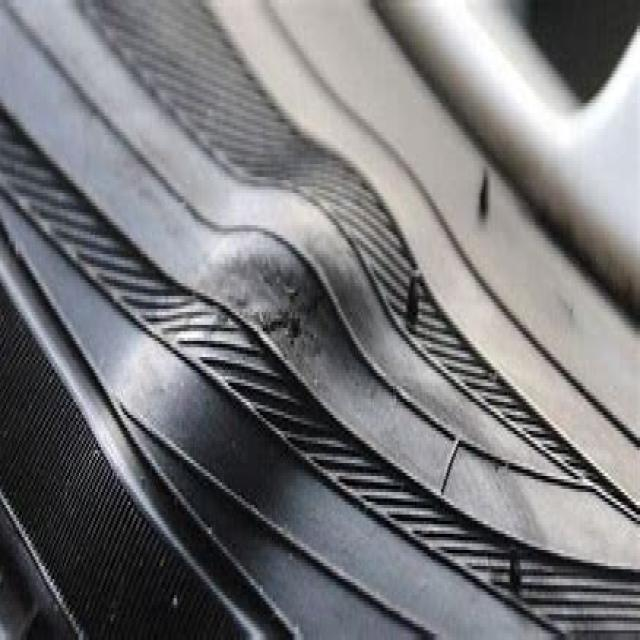Bulge: (98, 119, 426, 599)
